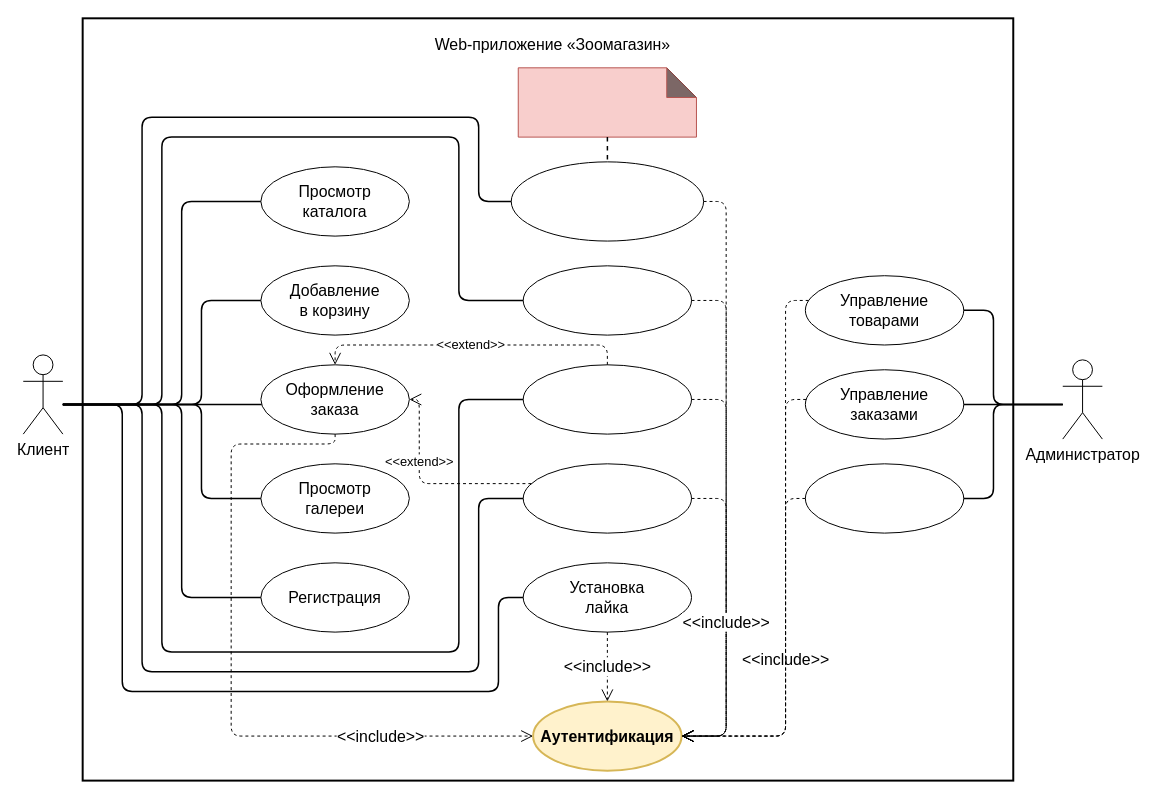
Some shapes in this 1156 by 798 pixel diagram are drawn without their labels. Each missing label, with the centre of its shape:
"Данные прецеденты требуют обязательной аутентификации" belongs at pixel 606 102.
"Модерация контента" belongs at pixel 884 498.
"Оставление комментария" belongs at pixel 607 498.
"Подбор корма по профилю" belongs at pixel 607 300.
"Публикация поста" belongs at pixel 607 399.
"Управление профилями питомцев" belongs at pixel 607 201.
